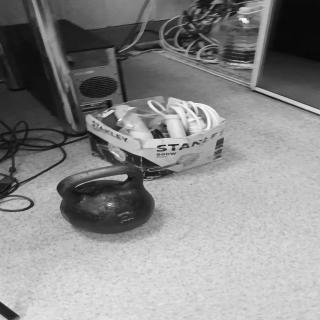girya: (58, 165, 158, 235)
